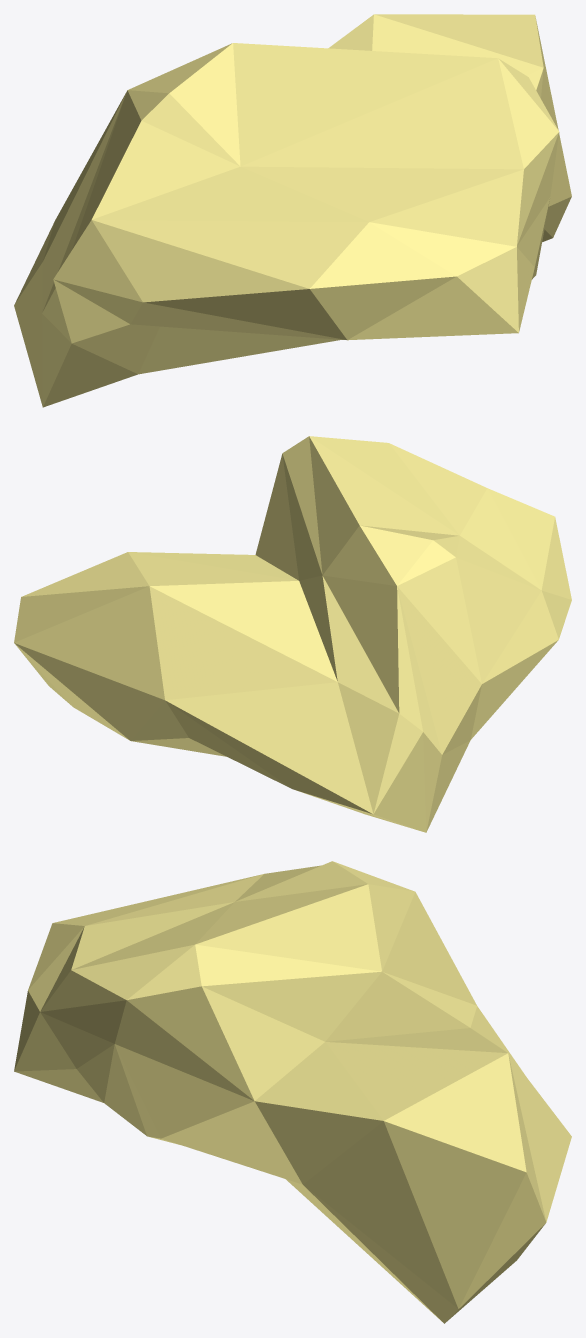
Rendered from Hill_006.glb.
3 renders of one model, top to bottom at view 1: azimuth 30°, elevation 25°; view 2: azimuth 150°, elevation 25°; view 3: azimuth 270°, elevation 25°, orthographic. The views are drawn at different scales.
Parts seen in each view (by area): view 1: Hill_006; view 2: Hill_006; view 3: Hill_006.
Part boxes in pixels (x1,y1,x2,y2): Hill_006: [14, 14, 571, 407]; Hill_006: [14, 436, 571, 832]; Hill_006: [14, 861, 571, 1323].
Size of the model in its own units: 0.7023 by 0.41 by 0.6106.
Materials: 1 (1 with a texture image).
